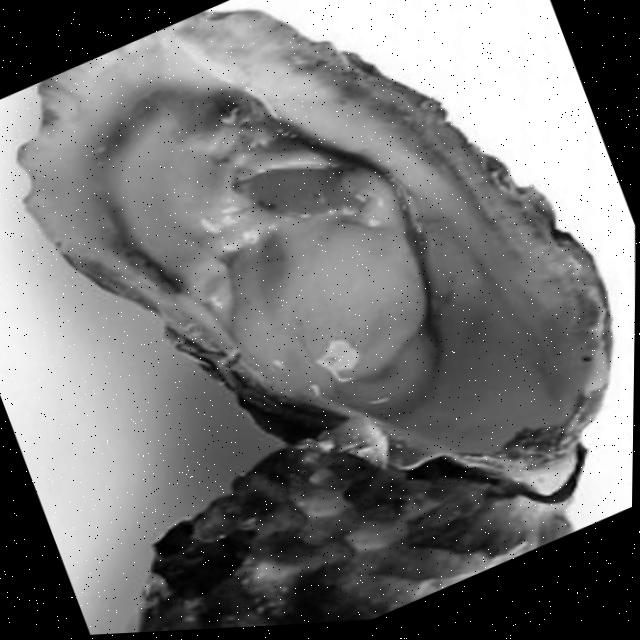Oyster-Indeterminate: (98, 342, 581, 634)
Oyster-Open: (0, 0, 640, 640)
